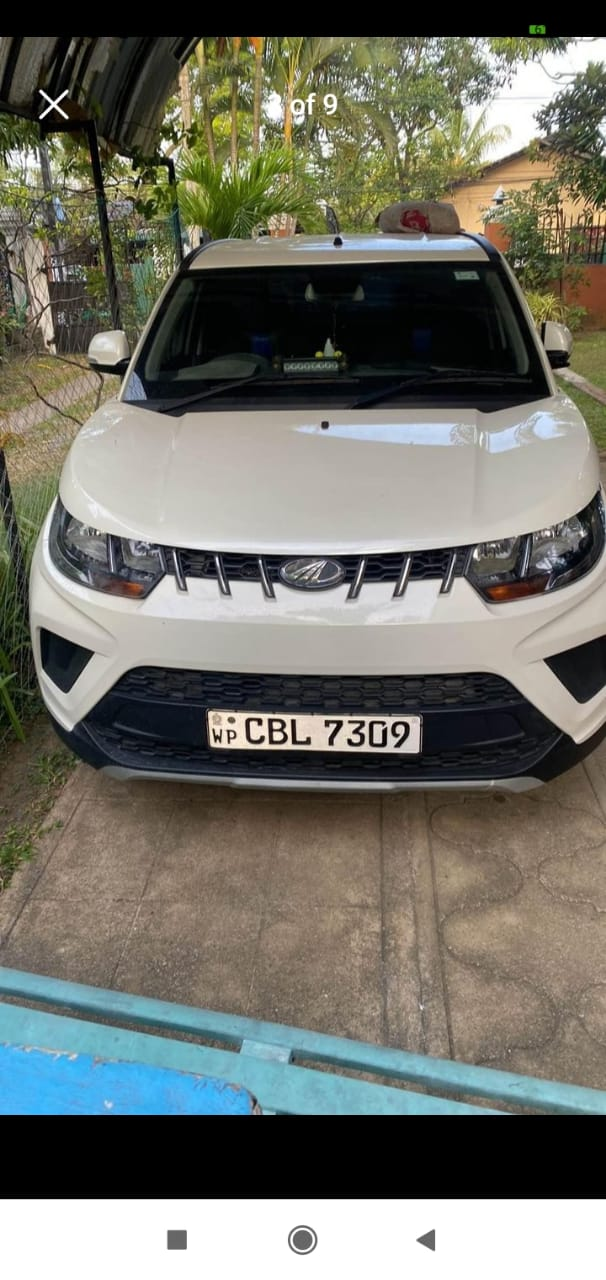number_plate: (206, 708, 424, 755)
